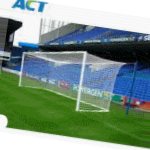goals: (16, 49, 116, 116)
